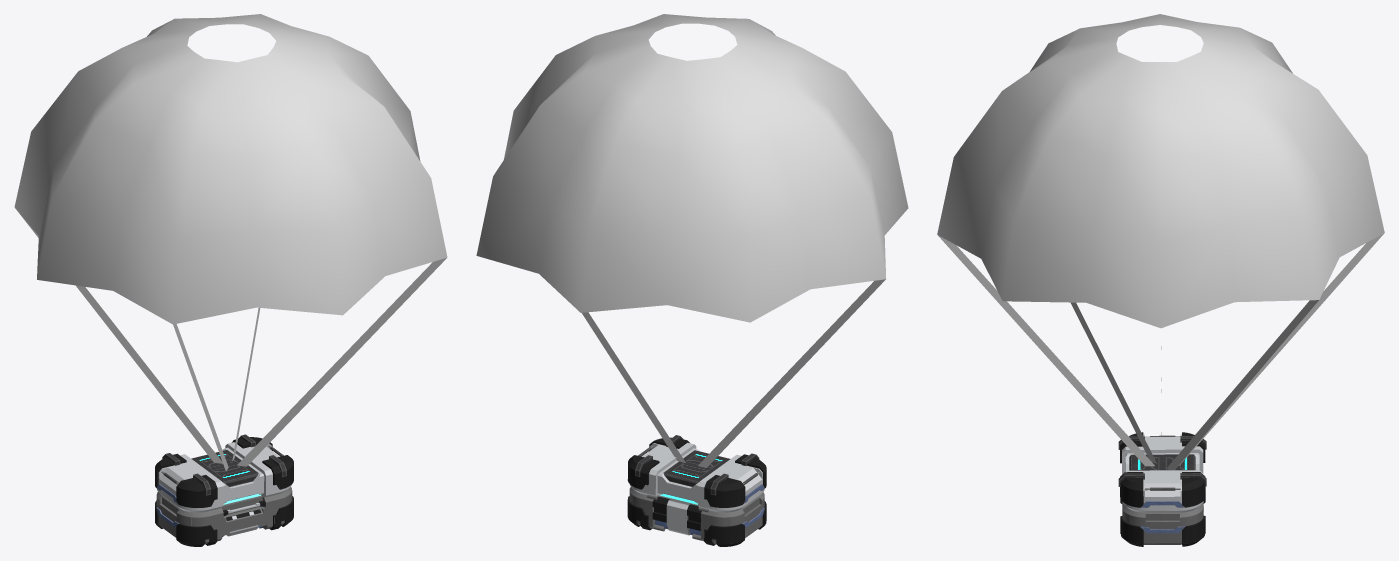
The model's file is silver.glb.
3 renders of one model, left to right at view 1: azimuth 30°, elevation 25°; view 2: azimuth 150°, elevation 25°; view 3: azimuth 270°, elevation 25°, orthographic.
Parts seen in each view (by area): view 1: parachute, airdrop; view 2: parachute, airdrop; view 3: parachute, airdrop.
Part boxes in pixels (x1,y1,x2,y2): parachute: (14,14,447,471); airdrop: (155,434,293,546); parachute: (476,14,908,467); airdrop: (627,435,766,546); parachute: (937,14,1384,470); airdrop: (1118,432,1206,546).
Size of the model in its own units: 275 by 326 by 275.
Materials: 1 (1 with a texture image).
